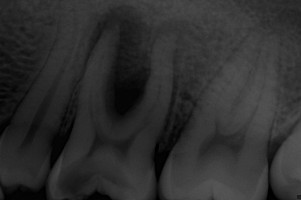Dental Caries: (87, 5, 191, 117)
